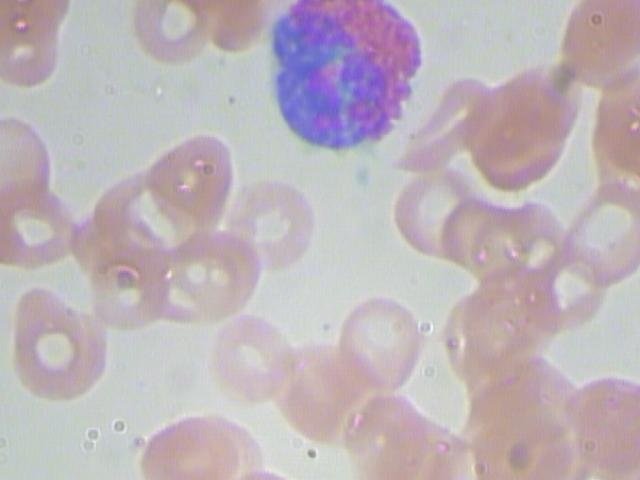RBC: (1, 283, 115, 403), (224, 166, 320, 276), (206, 300, 302, 410), (145, 126, 242, 233), (333, 282, 430, 389), (461, 260, 558, 367), (388, 166, 491, 265), (537, 374, 640, 473), (556, 179, 640, 296), (400, 73, 494, 176), (555, 1, 640, 99), (1, 181, 88, 276), (134, 1, 216, 68)
